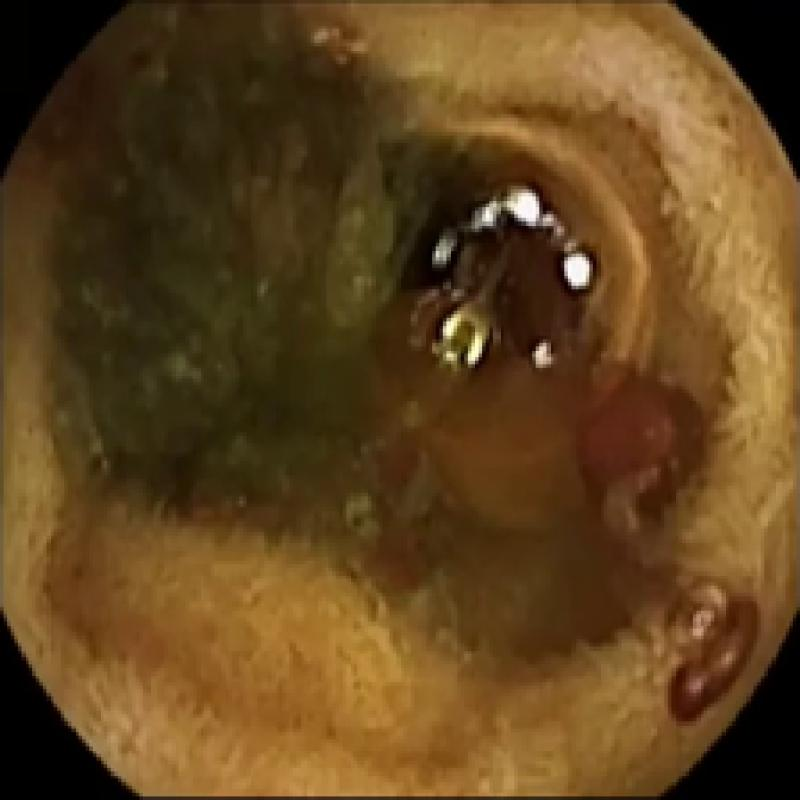bleeding: (576, 370, 757, 722), (396, 182, 596, 368)
